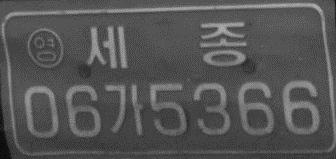0: (23, 84, 59, 139)
3: (192, 82, 231, 136)
5: (148, 81, 187, 137)
6: (281, 78, 320, 136), (237, 80, 274, 136), (65, 83, 101, 138)
가: (104, 83, 144, 136)
세종_D: (83, 20, 249, 69)
영: (26, 26, 64, 69)
